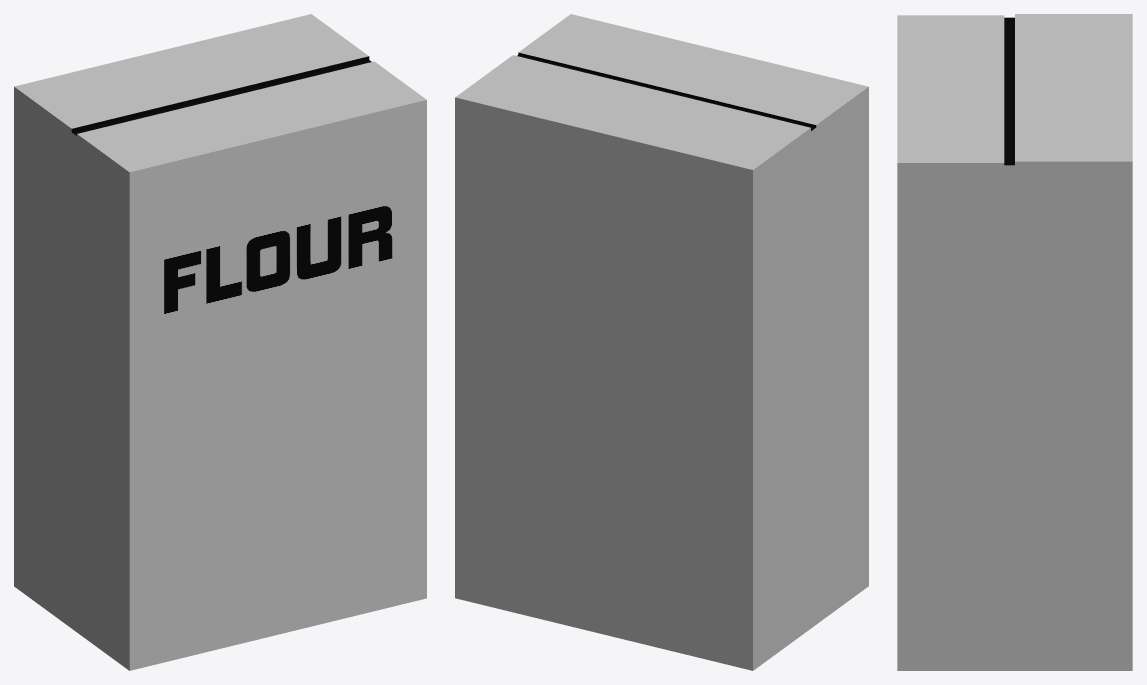
File: Flour_unbranded.fbx
3 renders of one model, left to right at view 1: azimuth 30°, elevation 25°; view 2: azimuth 150°, elevation 25°; view 3: azimuth 270°, elevation 25°, orthographic.
Visible parts, largest first — view 1: Cube.001; view 2: Cube.001; view 3: Cube.001.
Boxes of the visible parts, <box> form: Cube.001: <box>14,14,426,670</box>; Cube.001: <box>455,14,868,670</box>; Cube.001: <box>897,14,1132,670</box>.
Bounding box in the file's own units: 17.35 × 27.87 × 11.67.
